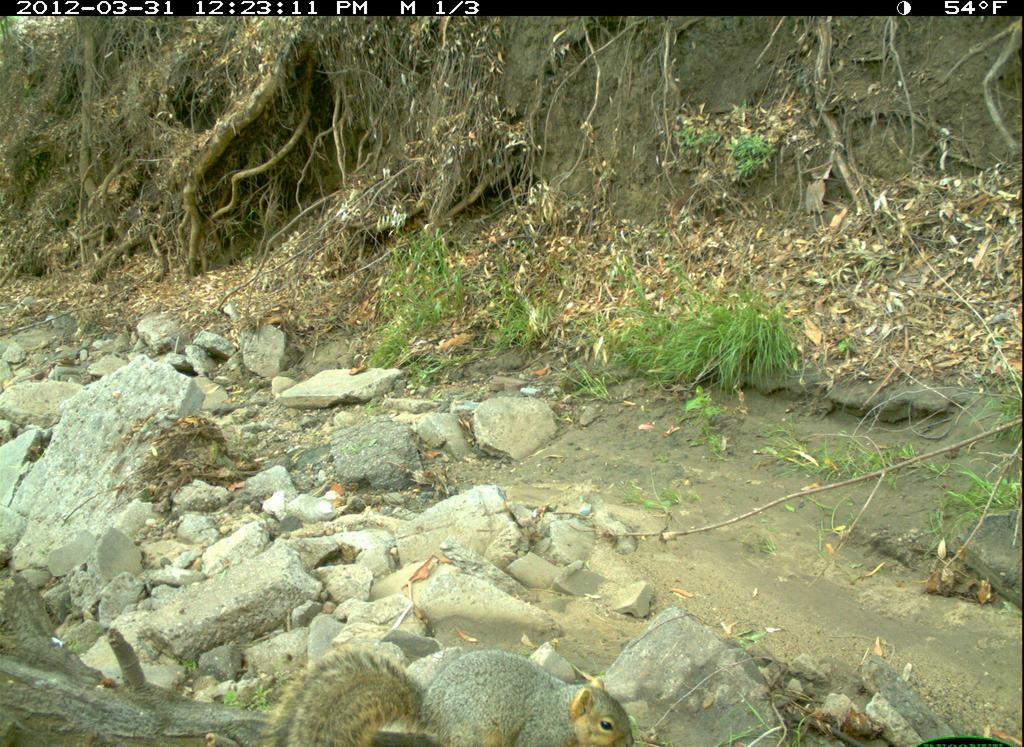squirrel: (251, 636, 660, 747)
